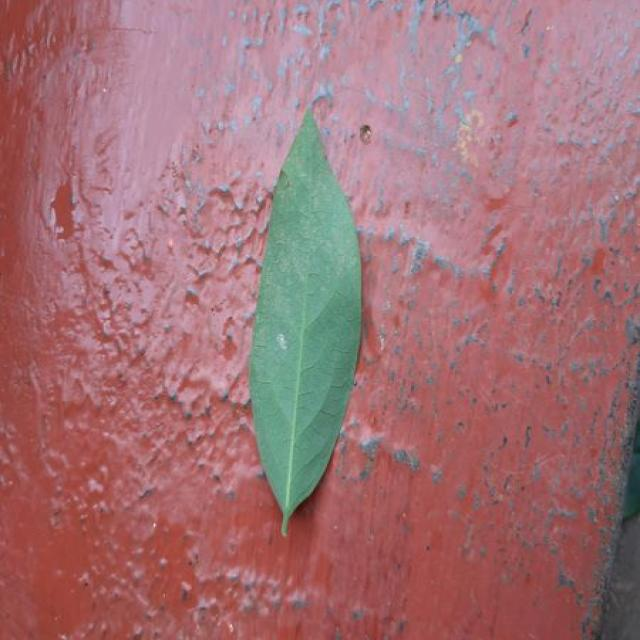amla: (250, 111, 362, 534)
